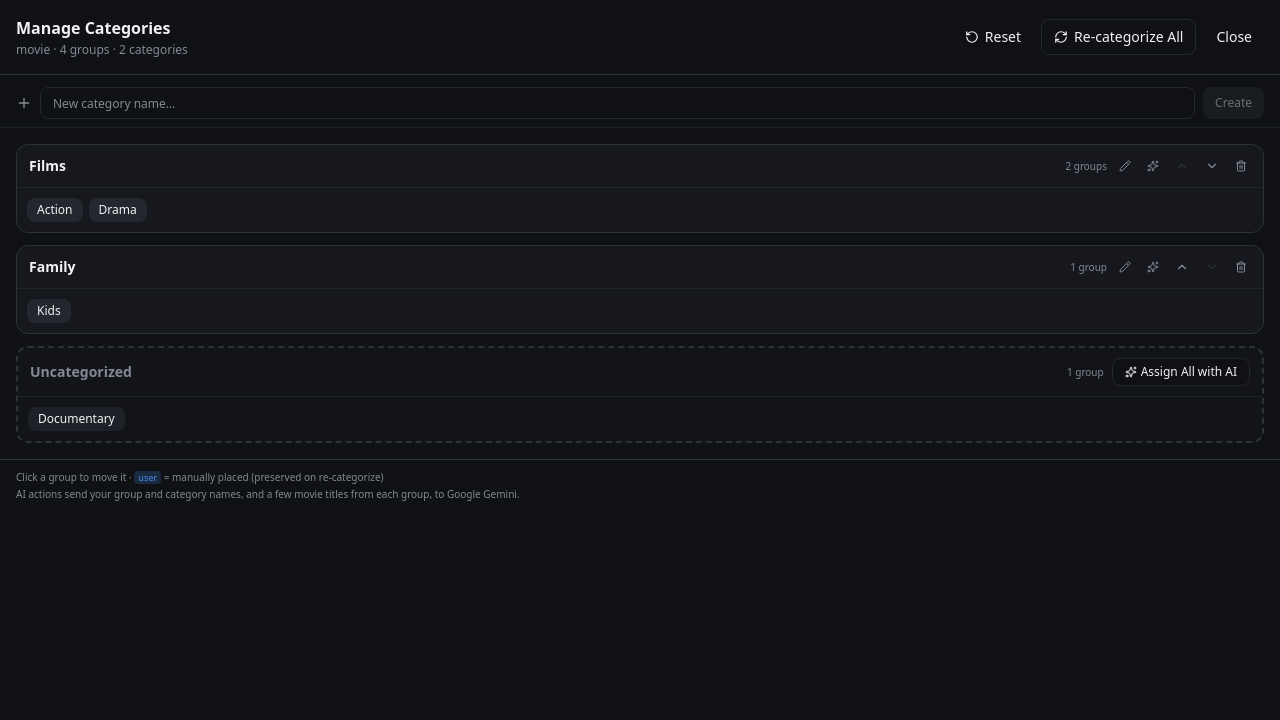
Scenario: CategoryManager moving a group › puts the selection down when the group or the cancel button is clicked again
The width and height of the screenshot is (1280, 720).
What coordinates should you click on to do the following:
click the button "Drama"
I would click on:
 (118, 210)
Its box is [88,198,147,222].
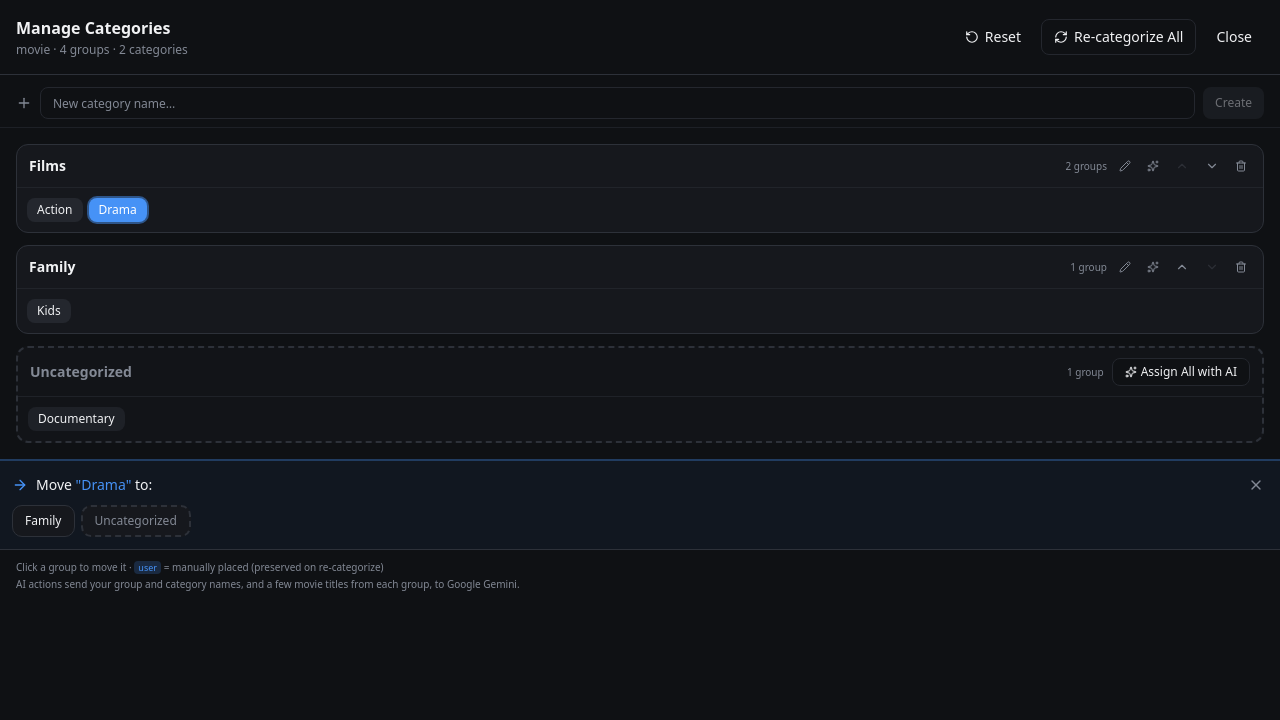
What coordinates should you click on to do the following:
click the button "Drama"
I would click on:
 (118, 210)
Its box is [88,198,147,222].
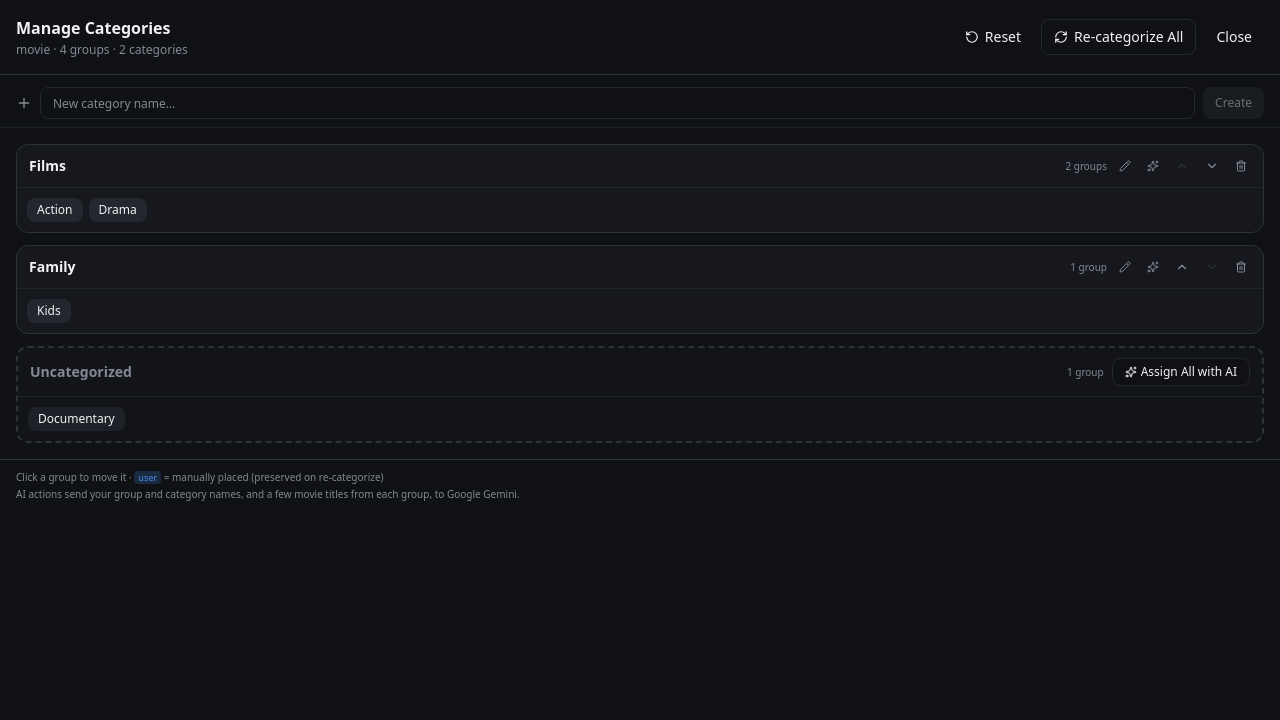
Check: the text "to:" is gone
What coordinates should you click on to do the following:
click the button "Drama"
I would click on:
 (118, 210)
Its box is [88,198,147,222].
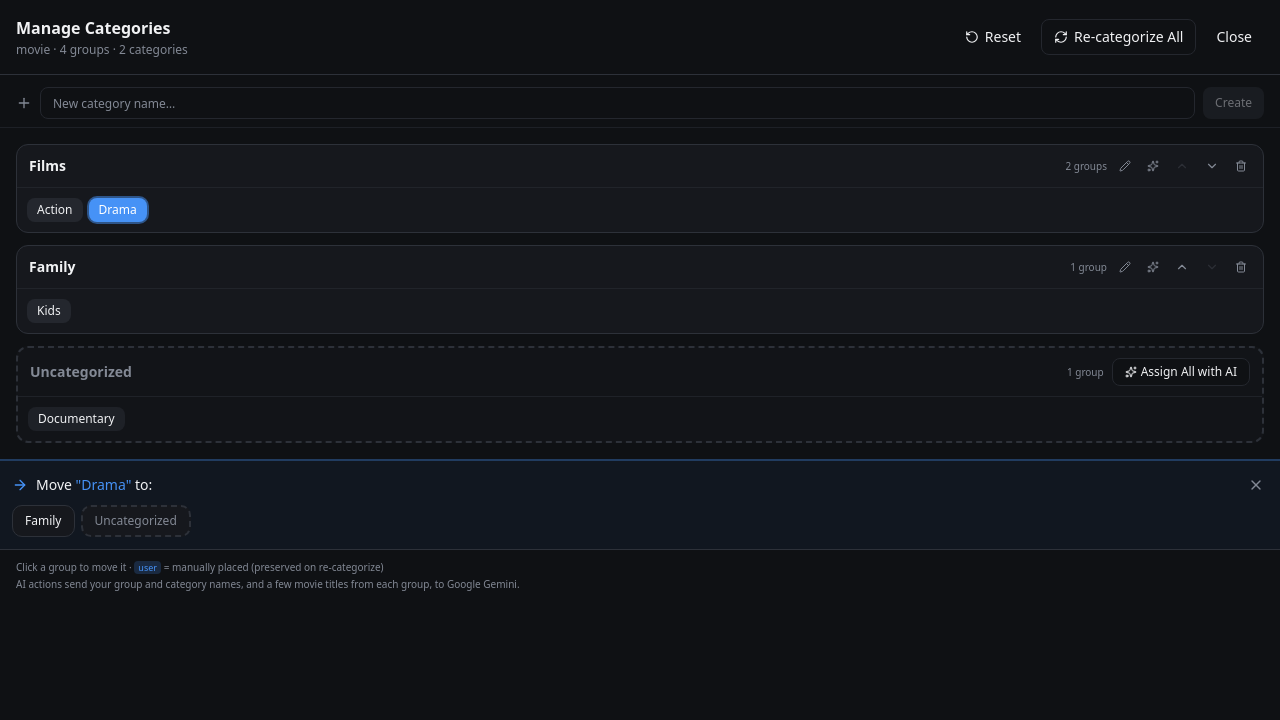
What coordinates should you click on to do the following:
click the button named "Cancel move"
I would click on:
 (1256, 485)
Its box is [1244,473,1268,497].
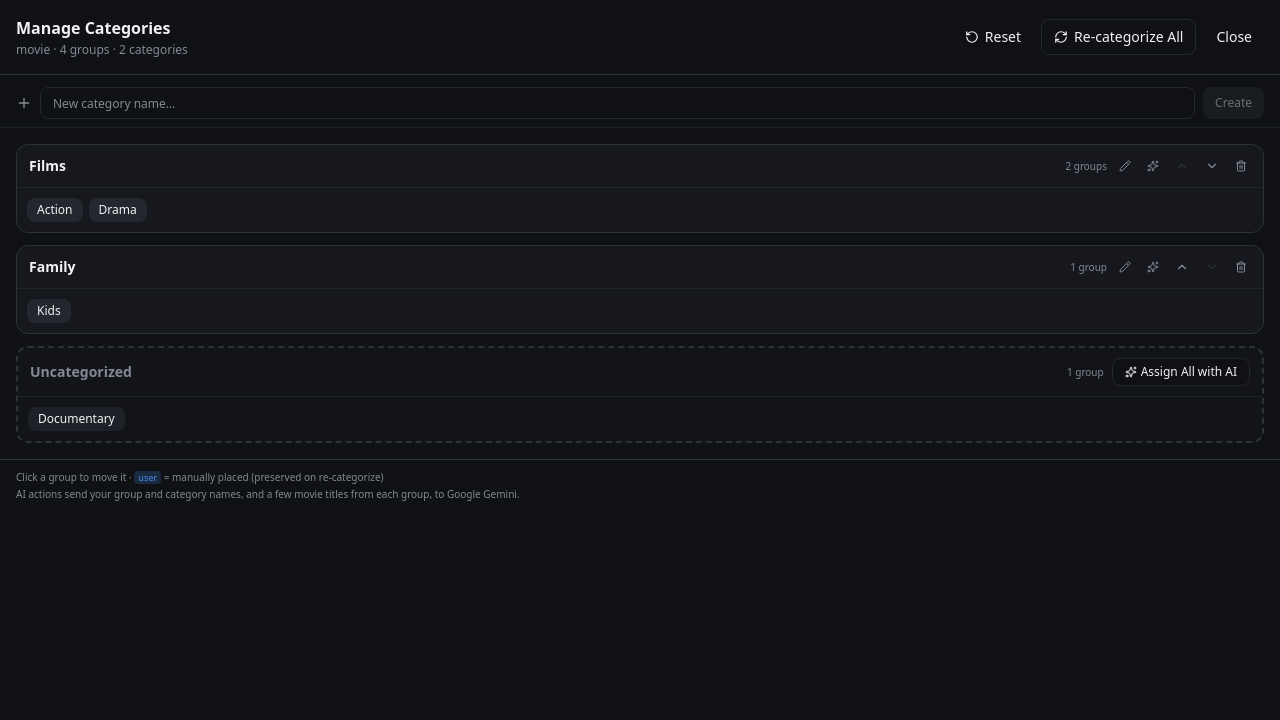
Check: the text "to:" is gone
